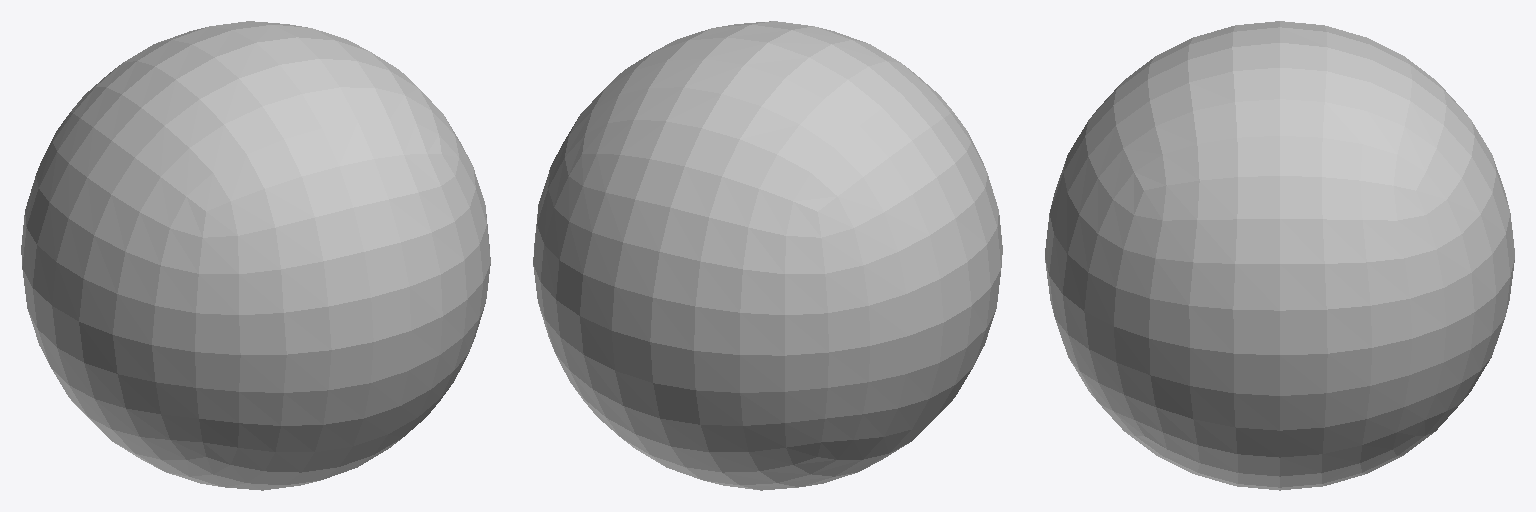
The model's file is Jupiter.obj.
3 renders of one model, left to right at view 1: azimuth 30°, elevation 25°; view 2: azimuth 150°, elevation 25°; view 3: azimuth 270°, elevation 25°, orthographic.
Parts seen in each view (by area): view 1: Sphere; view 2: Sphere; view 3: Sphere.
Boxes of the visible parts, x1=… form: Sphere: x1=21, y1=21, x2=490, y2=490; Sphere: x1=533, y1=21, x2=1002, y2=490; Sphere: x1=1045, y1=21, x2=1514, y2=490.
Bounding box in the file's own units: 2 × 2 × 2.